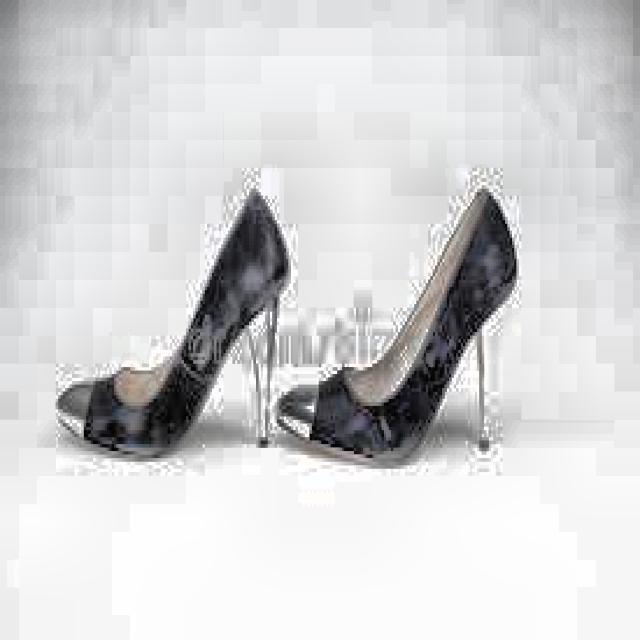shoes: (53, 176, 520, 473)
